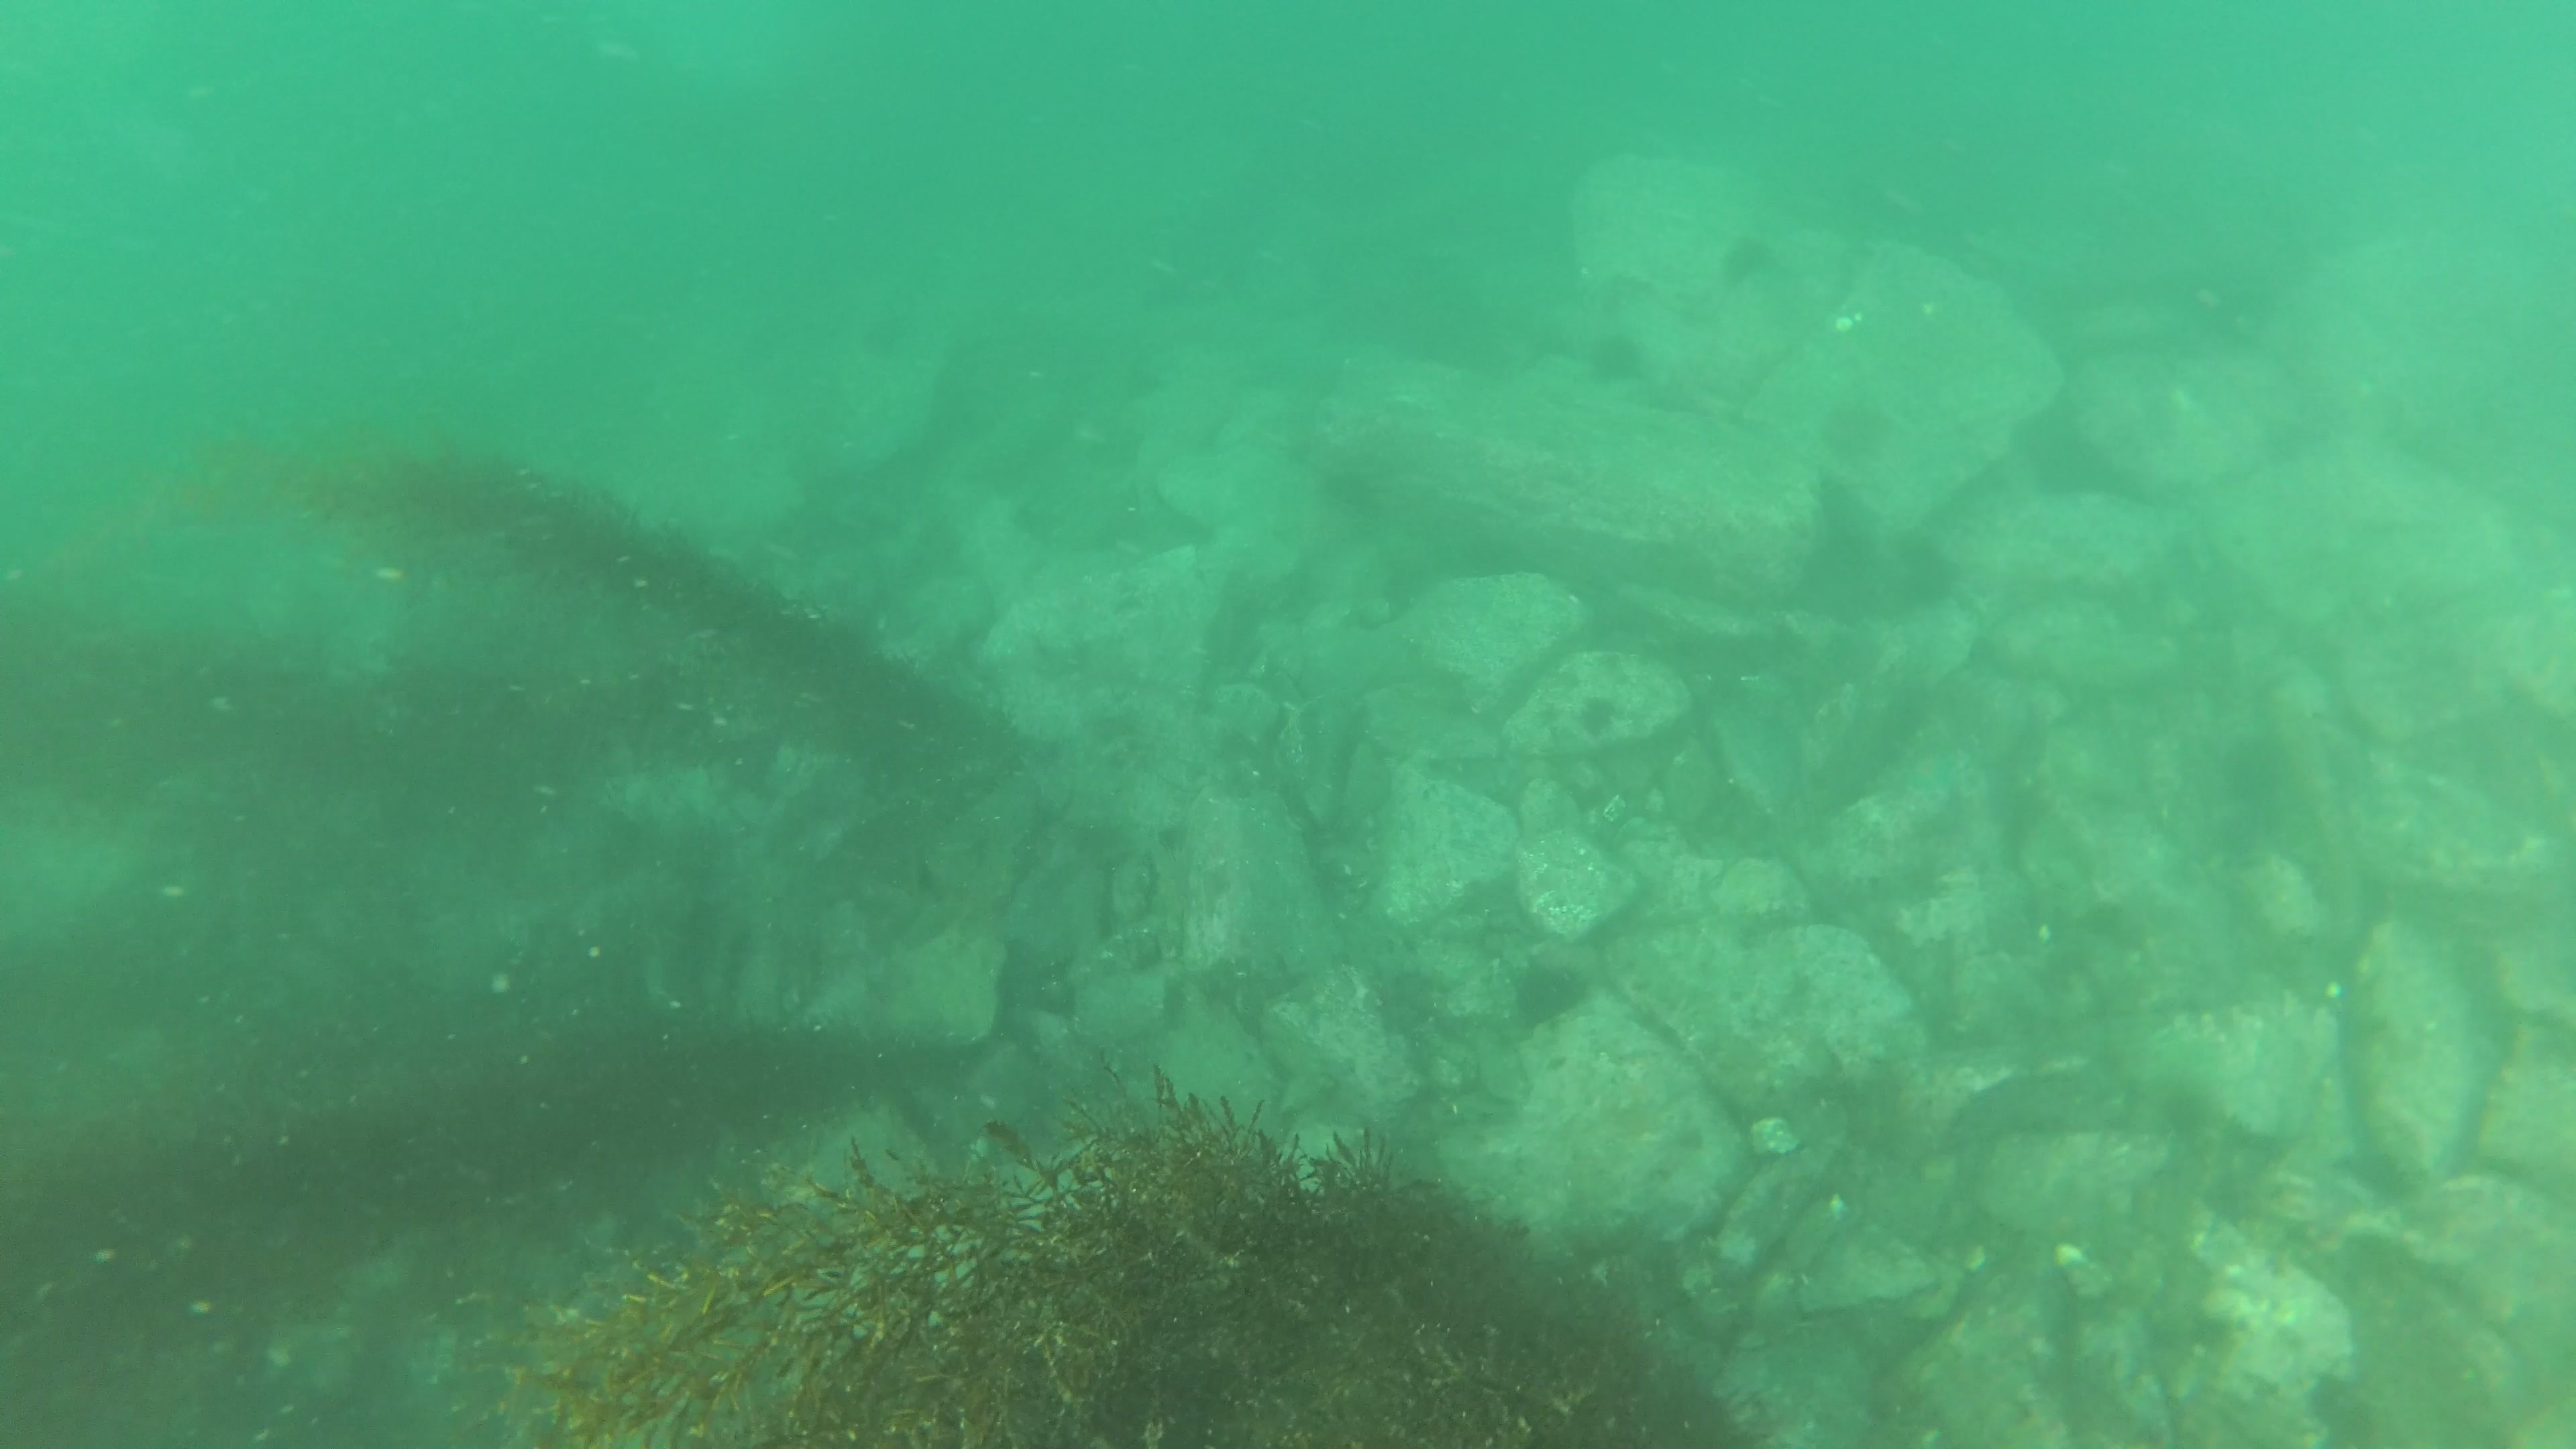echinus: (1500, 948, 1596, 1037), (1813, 387, 1898, 471), (1578, 322, 1654, 393), (1714, 225, 1783, 294)
